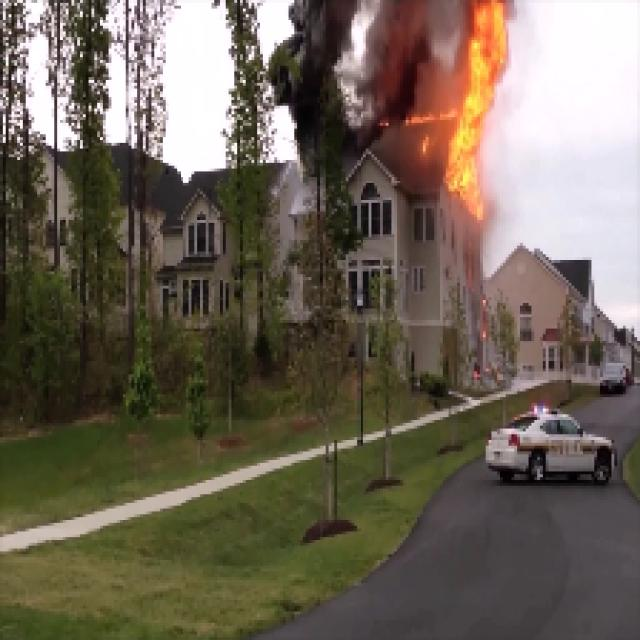fire: (451, 0, 511, 214)
smoke: (314, 2, 449, 108)
